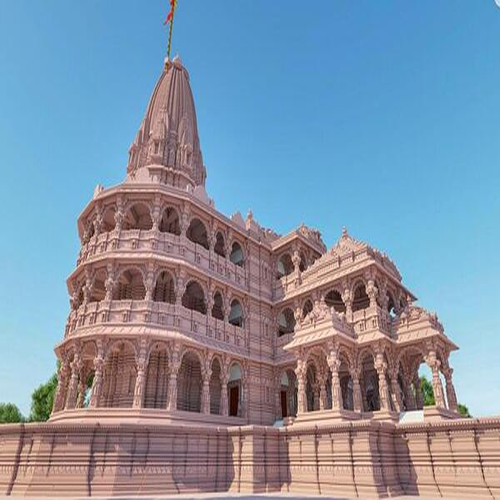Temple: (62, 40, 461, 446)
